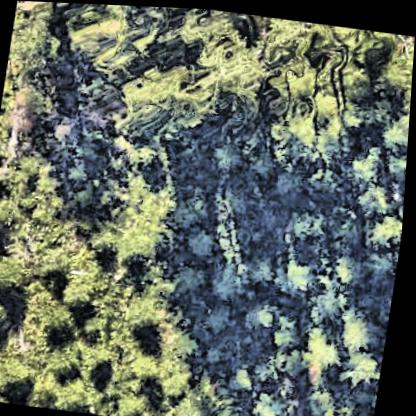tree-top: (112, 54, 223, 149), (62, 2, 148, 76), (321, 305, 381, 358), (0, 348, 50, 401), (307, 320, 352, 369), (63, 269, 107, 316), (362, 205, 406, 252), (130, 294, 175, 338), (287, 201, 332, 243), (344, 345, 388, 387), (344, 307, 386, 351), (301, 159, 345, 199), (78, 343, 122, 383), (45, 299, 84, 344), (61, 372, 103, 412), (0, 254, 38, 298), (131, 342, 172, 382), (284, 252, 323, 293), (343, 148, 385, 186), (187, 221, 226, 261), (255, 385, 302, 416), (121, 233, 160, 270), (169, 193, 211, 227), (392, 82, 412, 151), (244, 252, 284, 286), (357, 176, 394, 212), (333, 246, 368, 281), (273, 312, 309, 346), (0, 190, 26, 234), (310, 381, 342, 413), (234, 358, 265, 391), (253, 296, 284, 328), (121, 390, 157, 416), (338, 401, 380, 416), (404, 32, 415, 71)
